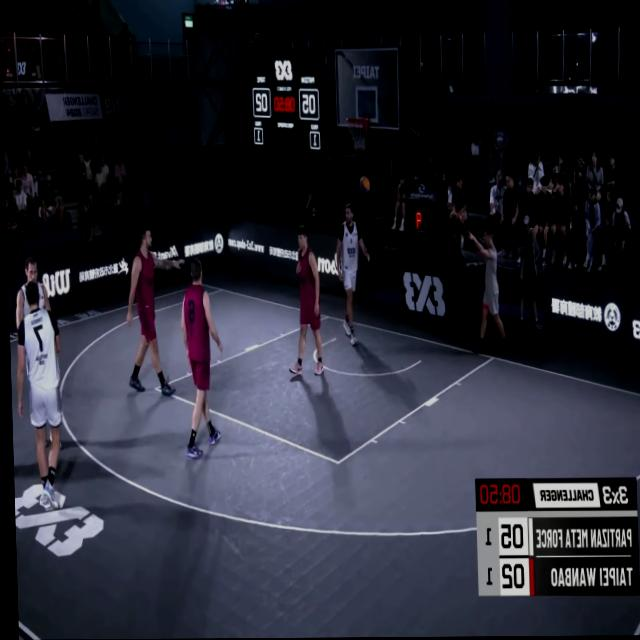ball: (357, 171, 369, 199)
hoop: (345, 115, 370, 154)
player: (12, 278, 63, 510), (121, 230, 185, 398), (178, 260, 223, 461), (284, 225, 322, 377), (336, 199, 372, 344), (13, 256, 49, 324)
